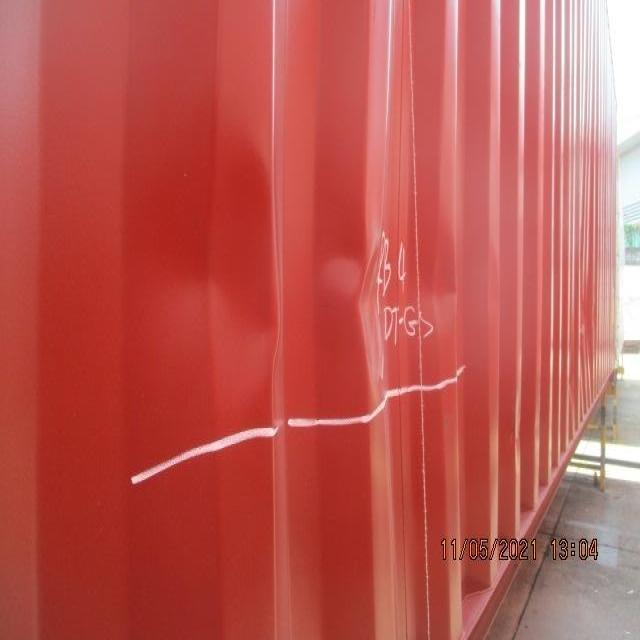dent: (121, 157, 495, 477)
